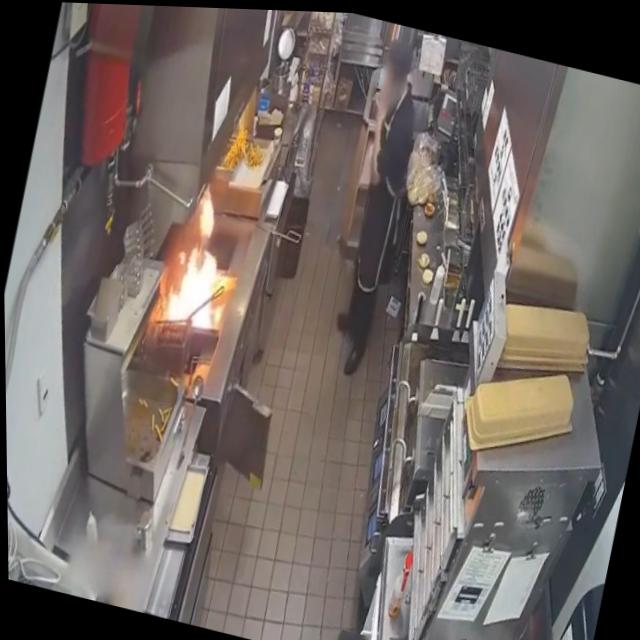fire: (152, 175, 246, 337)
